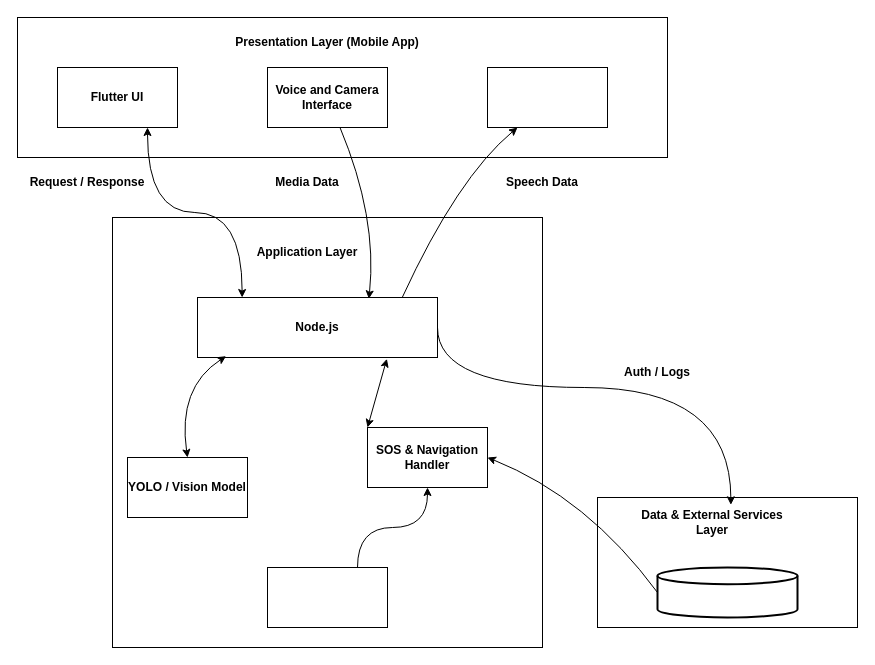
The diagram is 875 pixels wide and 665 high, and some of its shapes have lost their labels. The shapes that lost their labels are listed below. From the top down, each one's box as (x1, y1, x2, y2) in pixels, then its label:
(486, 66, 608, 128): ElevenLabs Audio Output
(266, 566, 388, 628): Emergency Support Services
(656, 566, 798, 618): Supabase
